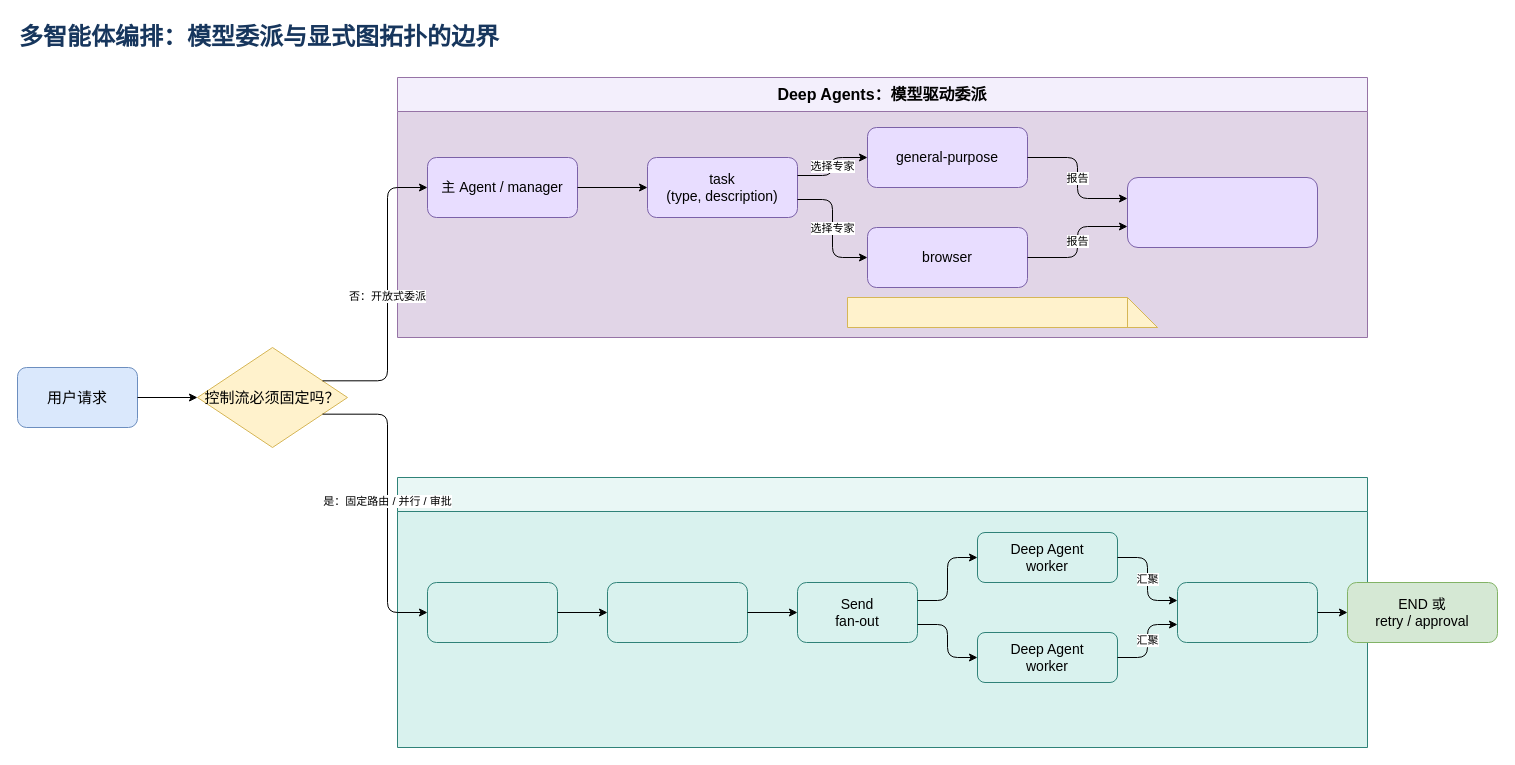
Image size: 1515x765. Some labels were removed from this diagram. Here are the shapes that lost their labels. From the top down, the box of each, then its label:
(1126, 176, 1318, 248): 最终 ToolMessage 主 Agent 汇总、继续或结束
(846, 296, 1158, 328): 子 Agent 是叶子节点：默认没有兄弟互调
(426, 582, 558, 642): StateGraph
(606, 582, 748, 642): router / 条件边
(396, 476, 1368, 748): LangGraph：显式图拓扑
(1176, 582, 1318, 642): reducer / reviewer
